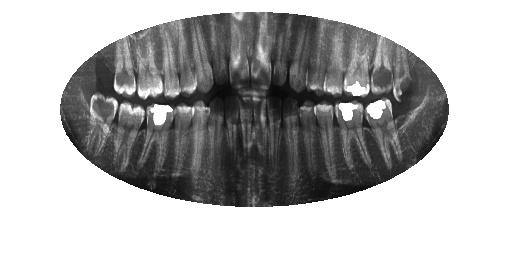Cavity: (221, 99, 238, 165), (209, 97, 225, 165), (282, 105, 302, 156)
